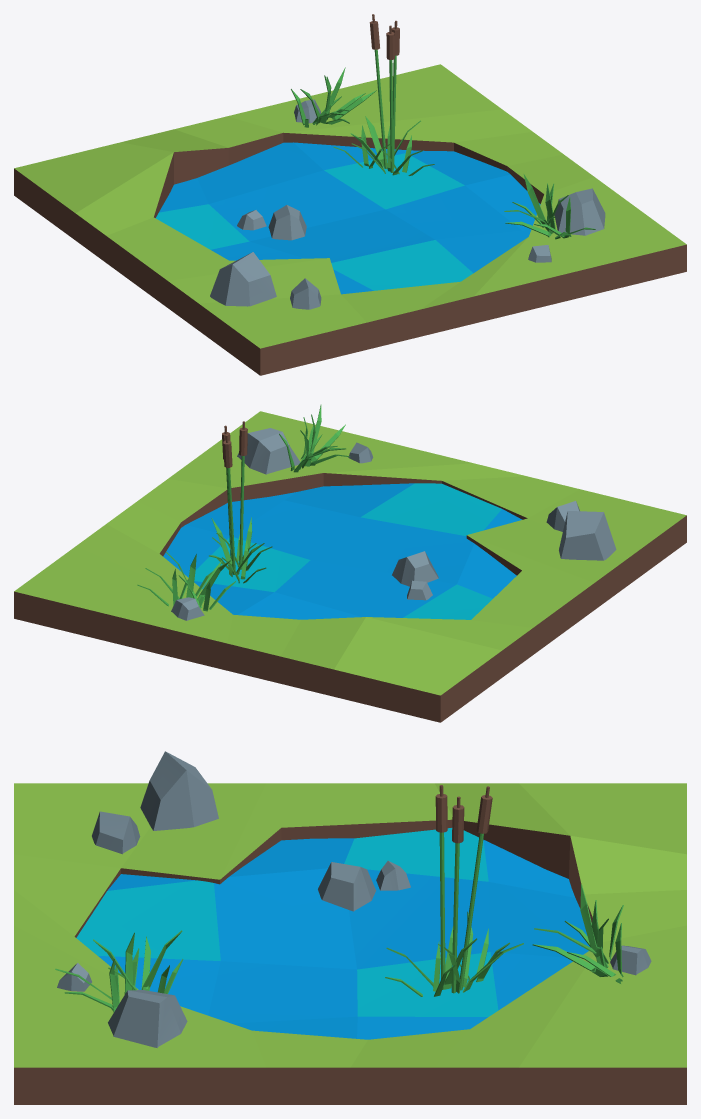
File: pond.glb
3 renders of one model, top to bottom at view 1: azimuth 30°, elevation 25°; view 2: azimuth 150°, elevation 25°; view 3: azimuth 270°, elevation 25°, orthographic. The views are drawn at different scales.
Parts seen in each view (by area): view 1: pond_01_Cube.010; view 2: pond_01_Cube.010; view 3: pond_01_Cube.010.
Boxes of the visible parts, x1=… form: pond_01_Cube.010: x1=14, y1=14, x2=686, y2=375; pond_01_Cube.010: x1=14, y1=404, x2=686, y2=722; pond_01_Cube.010: x1=14, y1=751, x2=686, y2=1104.
Size of the model in its own units: 200 by 73.87 by 200.
